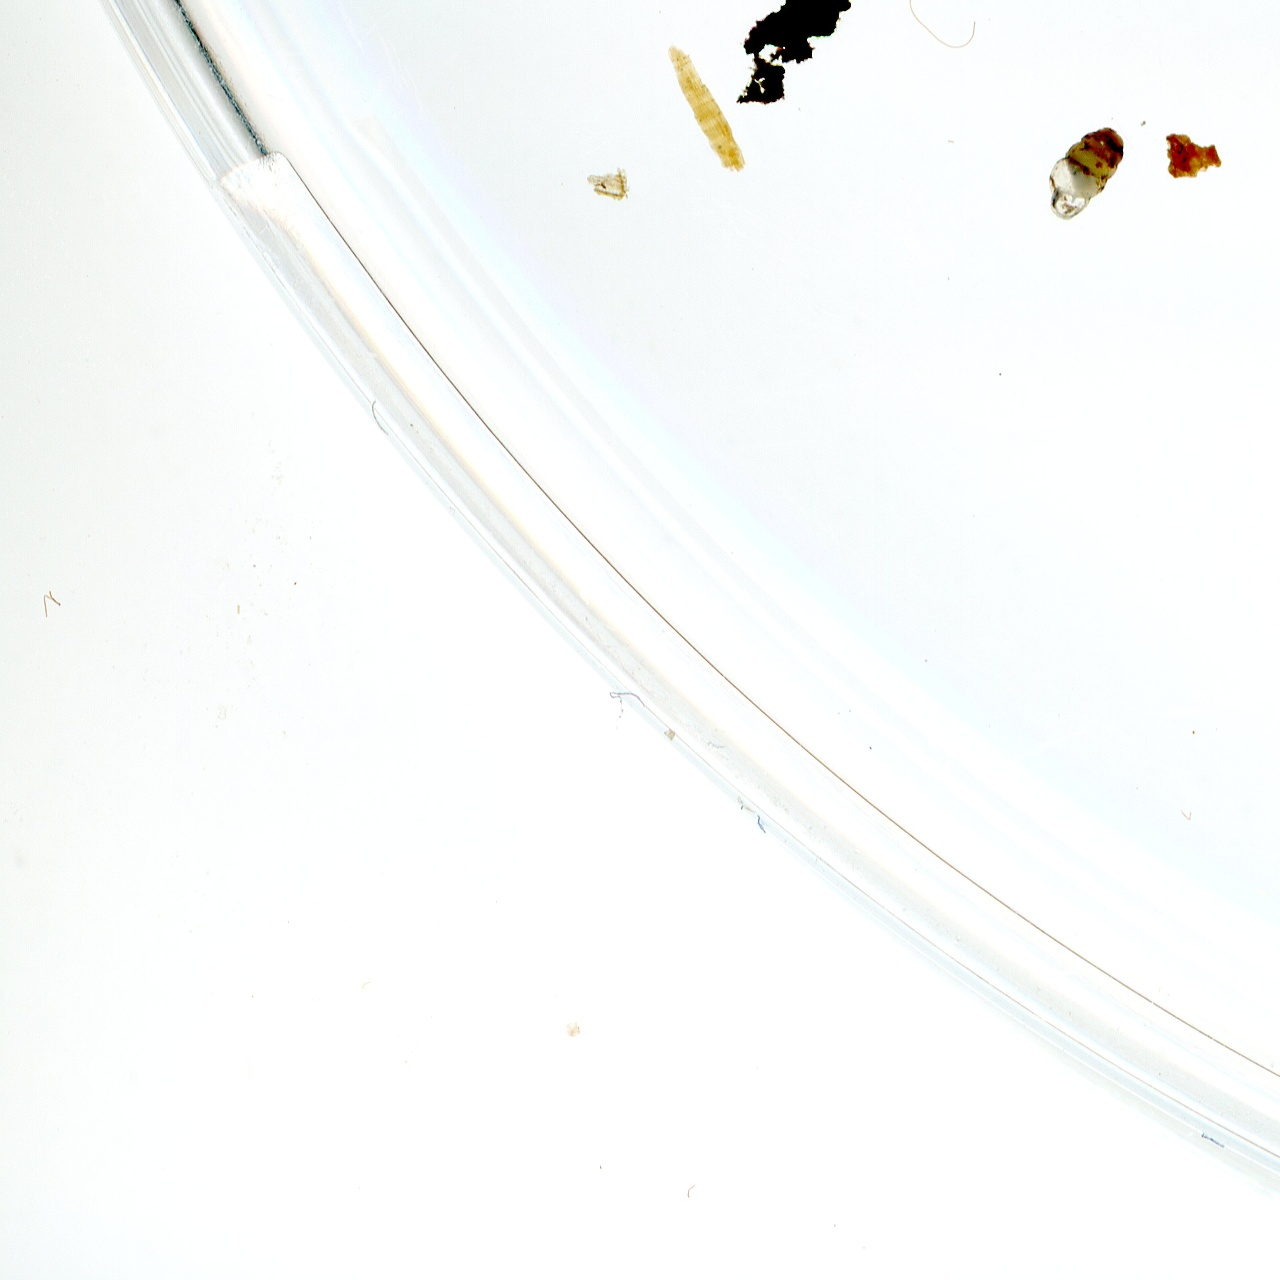arthropod: (1042, 121, 1128, 229)
